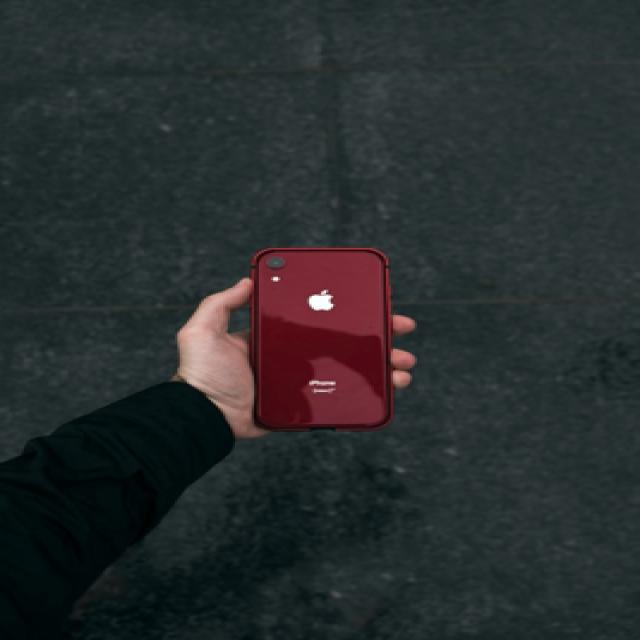cellphone: (247, 246, 393, 432)
